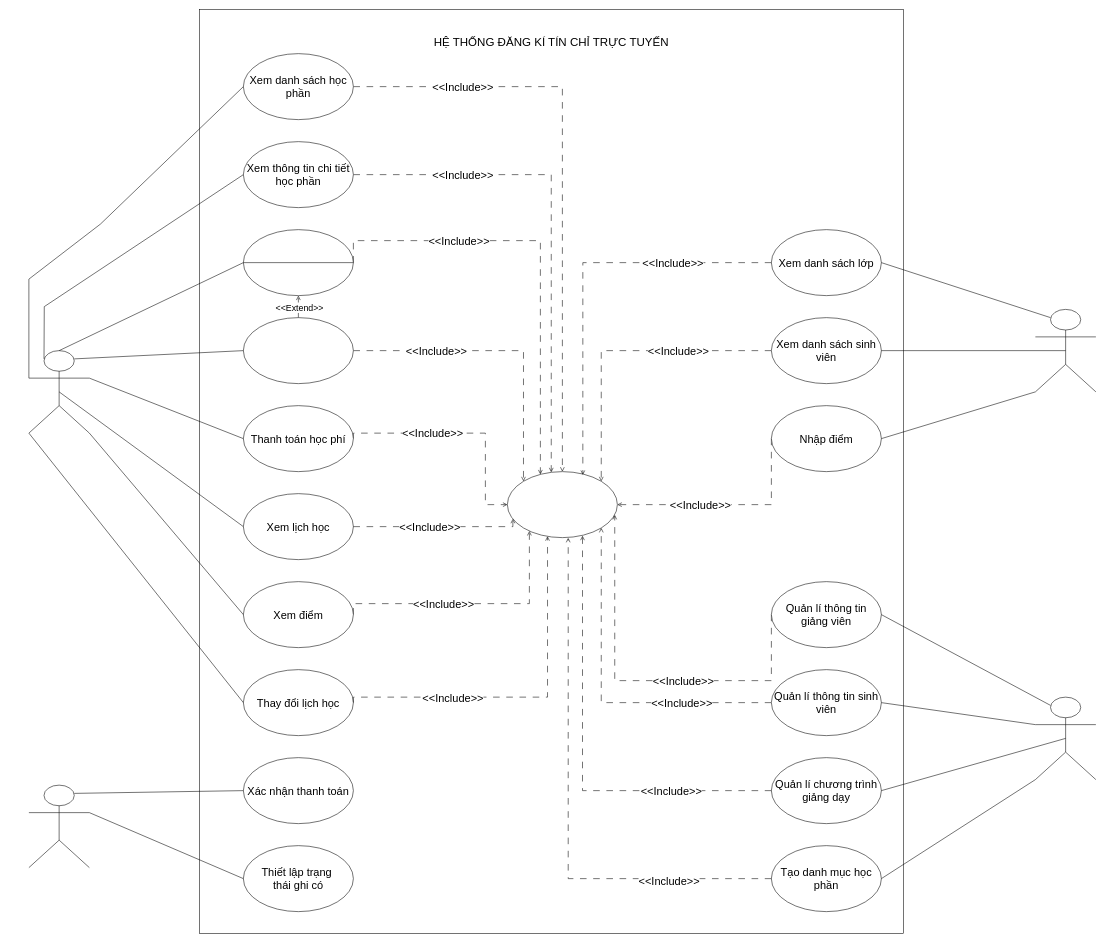
This 1106x943 diagram has some shape labels left out. Each missing label, with the centre of its shape:
Admin: [1065,738]
Chọn học phần thay thế: [298,350]
Giảng viên: [1065,350]
Hệ thống thanh toán: [58,826]
Sinh viên: [58,391]
Đăng kí học phần extension points sau khi đăng kí thành công: [298,262]
Đăng nhập: [562,504]
